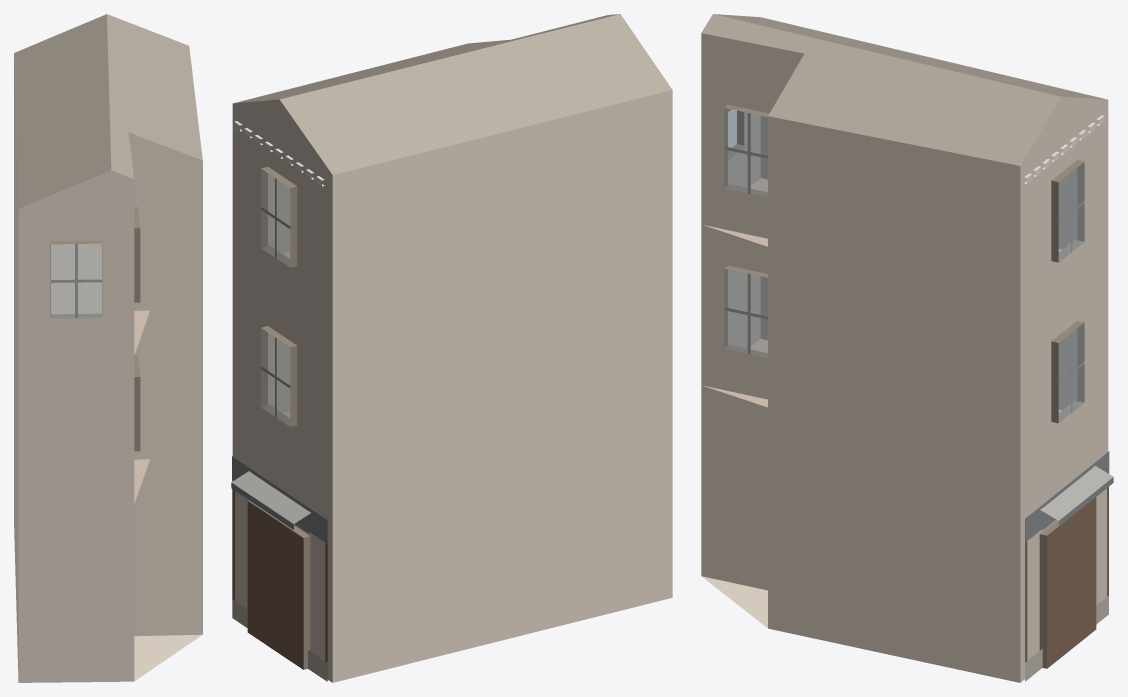
Rendered from N-50.north_three_storey_mass.glb.
3 views of the same model, side by side, from view 1: azimuth 30°, elevation 25°; view 2: azimuth 150°, elevation 25°; view 3: azimuth 270°, elevation 25° (orthographic). The views are drawn at different scales.
Parts seen in each view (by area): view 1: N-50.north_three_storey_mass; view 2: N-50.north_three_storey_mass; view 3: N-50.north_three_storey_mass.
Boxes of the visible parts, x1,y1,x2,y2 form: N-50.north_three_storey_mass: [14, 14, 202, 682]; N-50.north_three_storey_mass: [231, 14, 672, 682]; N-50.north_three_storey_mass: [701, 14, 1113, 682].
Size of the model in its own units: 6.55 by 11.01 by 7.44.
